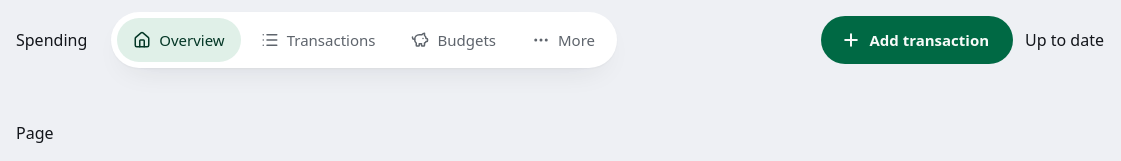
soft shell › offers every destination and the add action from labelled navigation
The image size is (1121, 161).
Expected: the navigation bar named "Main navigation" is shown, 111,12 -> 617,68
Expected: the link "Overview" is shown, 117,18 -> 241,62
Click the button "More": (564, 40) 516,18 -> 611,62
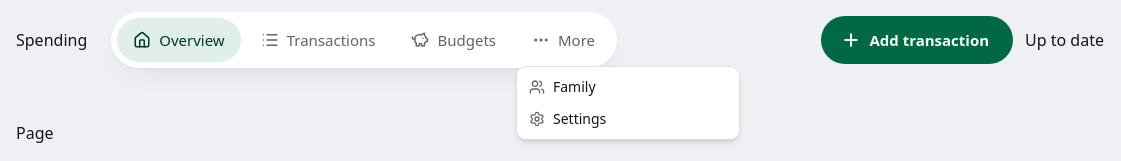
Now the menu item "Family" is shown, box 529,77 -> 596,96
Now the menu item "Settings" is shown, box 529,109 -> 606,128
